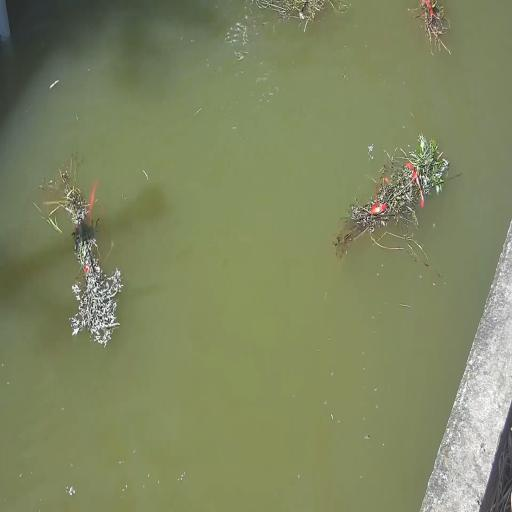twig: (35, 154, 126, 346), (333, 134, 454, 266), (38, 152, 89, 232), (256, 1, 338, 33), (411, 1, 452, 57)
